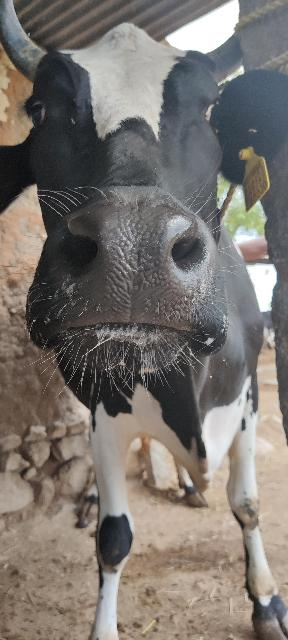Muzzle: (72, 210, 194, 328)
